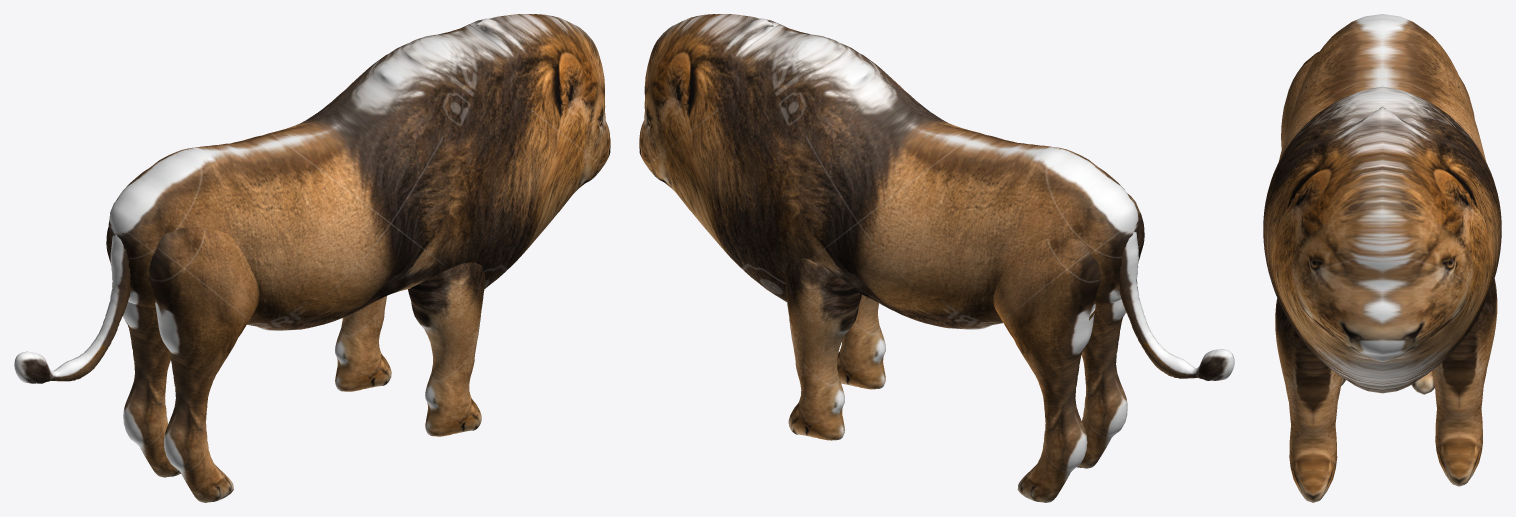
Rendered from lion.glb.
3 views of the same model, side by side, from view 1: azimuth 30°, elevation 25°; view 2: azimuth 150°, elevation 25°; view 3: azimuth 270°, elevation 25° (orthographic). The views are drawn at different scales.
Visible parts, largest first — view 1: Mesh_0; view 2: Mesh_0; view 3: Mesh_0.
Part boxes in pixels (left/top/right/bottom): Mesh_0: left=14, top=14, right=610, bottom=502; Mesh_0: left=639, top=14, right=1234, bottom=502; Mesh_0: left=1263, top=14, right=1501, bottom=502.
Bounding box in the file's own units: 7.97 × 5.11 × 2.51.
1 material, 1 textured.
